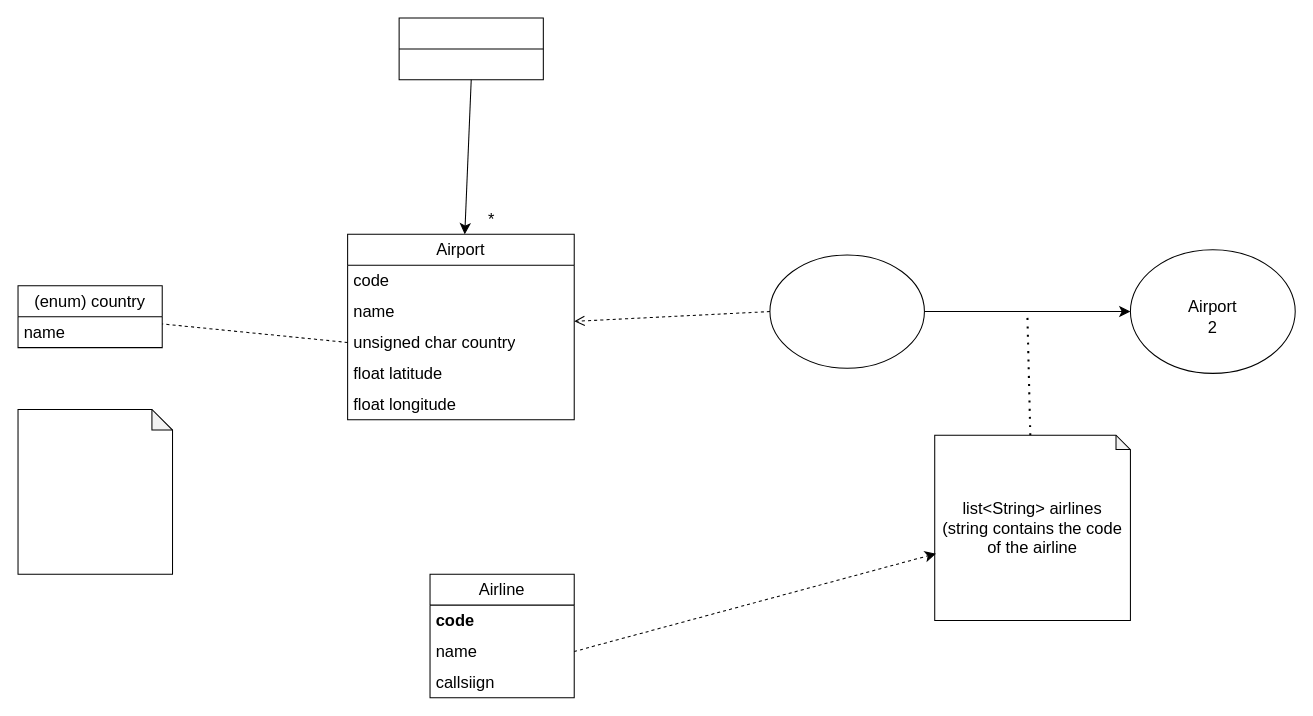
The diagram is 1313 pixels wide and 716 high, and some of its shapes have lost their labels. Here are the shapes that lost their labels. From the top down, the centre of each, then its label:
At point (470, 48): "City".
At point (846, 311): "Airport 1".
At point (95, 491): "a cada country está associado um índice. há menos de 256 países no mundo.".
